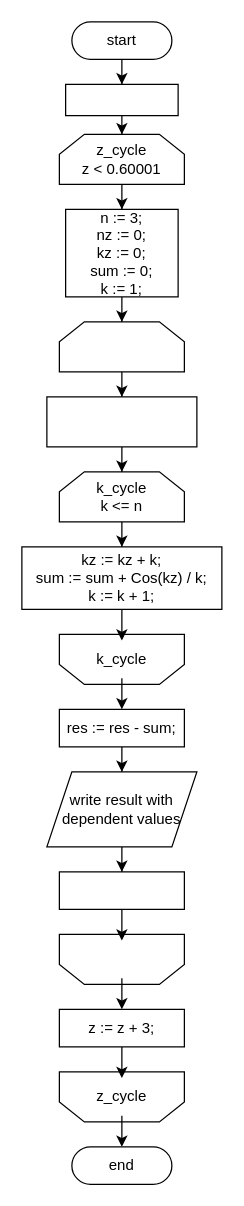
The diagram is 244 pixels wide and 1206 high, and some of its shapes have lost their labels. Each missing label, with the box of its shape:
n := n + 3;: (58, 871, 184, 909)
n_cycle: (58, 933, 184, 984)
n_cycle n <= 15: (58, 321, 184, 372)
nz := nz + z * 3; res := ln(nz) / 7;: (46, 396, 197, 447)
z := 0.45: (64, 83, 178, 116)
